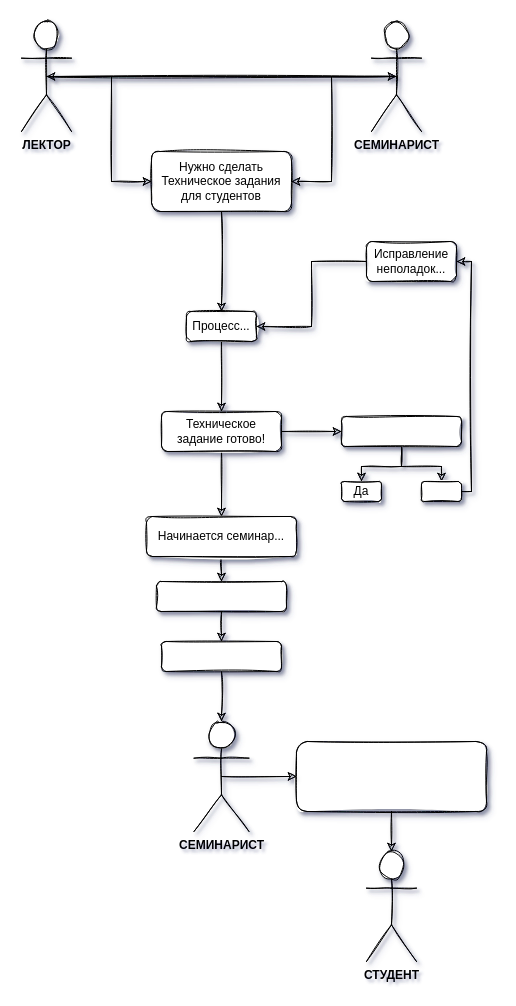
Image size: 516x1006. Some labels were removed from this diagram. Here are the shapes that lost their labels. From the top down, the centre of each, then its label:
pixel 402 433: Опубликовать его?
pixel 442 492: Нет
pixel 222 597: Процесс семинара
pixel 222 657: Конец семинара
pixel 392 777: Дорогие студенты,техническое задание опубликовано по ссылке
